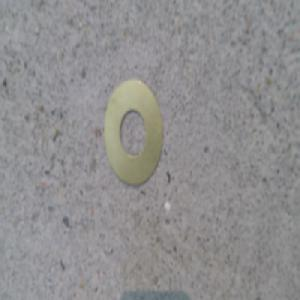Washer: (104, 77, 163, 190)
